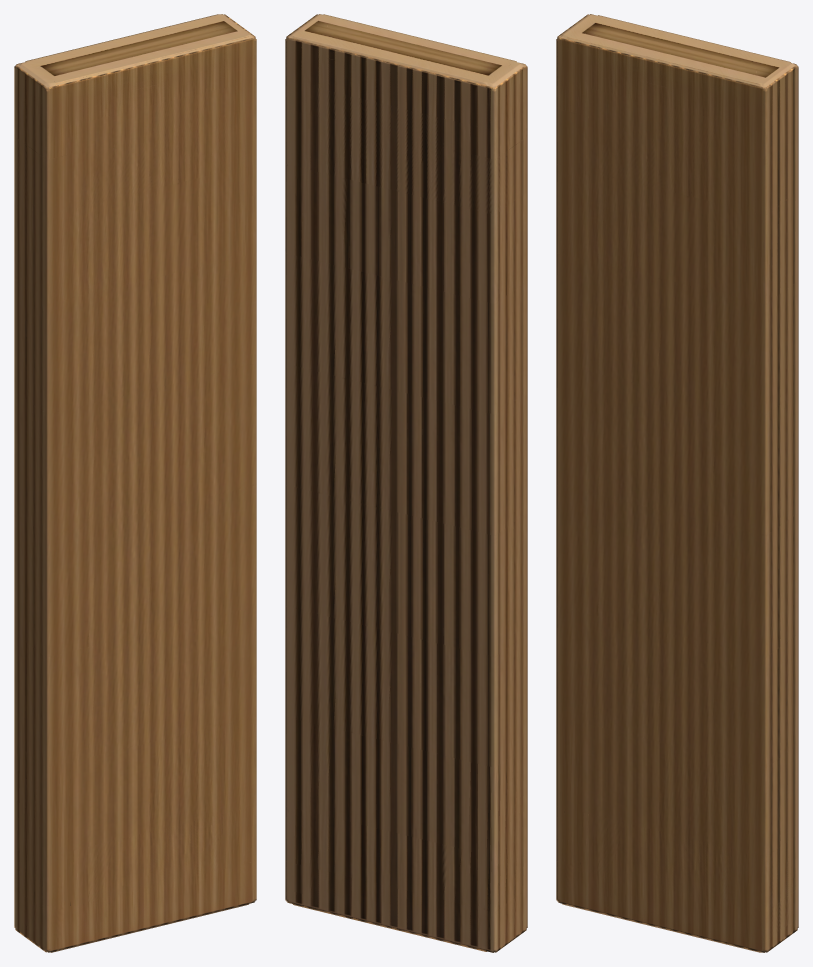
The model's file is Meshy_AI_Vertical_Wood_Slats_0107200707_texture.fbx.
3 renders of one model, left to right at view 1: azimuth 30°, elevation 25°; view 2: azimuth 150°, elevation 25°; view 3: azimuth 330°, elevation 25°, orthographic.
Parts seen in each view (by area): view 1: Mesh_0; view 2: Mesh_0; view 3: Mesh_0.
Boxes of the visible parts, left/top/right/bottom form: Mesh_0: left=14, top=14, right=256, bottom=952; Mesh_0: left=285, top=14, right=527, bottom=952; Mesh_0: left=556, top=14, right=798, bottom=952.
Size of the model in its own units: 48.14 by 191 by 12.92.
1 material, 1 textured.
